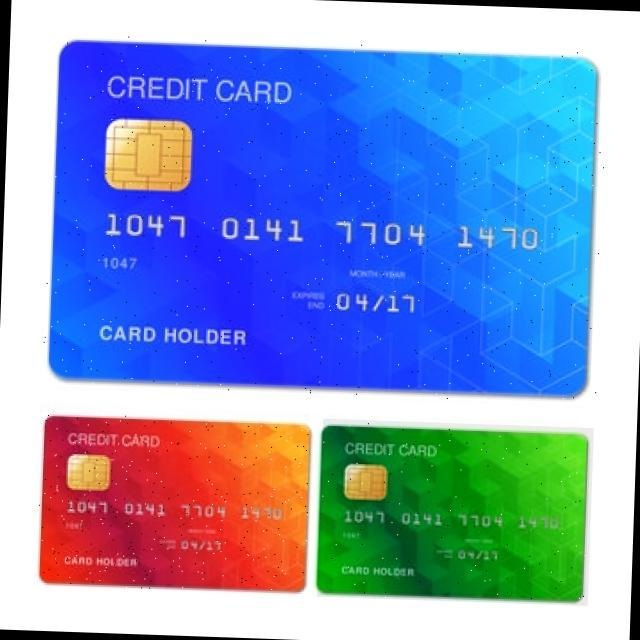payment_card: (47, 38, 597, 396), (316, 423, 589, 602), (38, 414, 310, 592)
